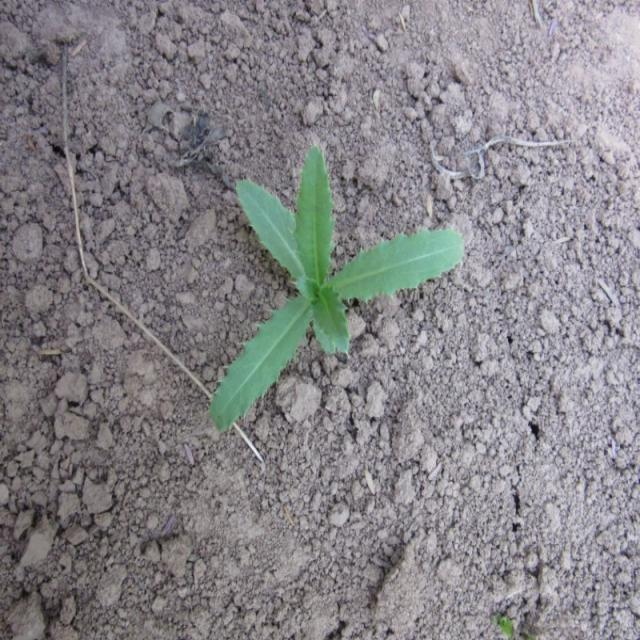cs: (206, 141, 469, 439)
